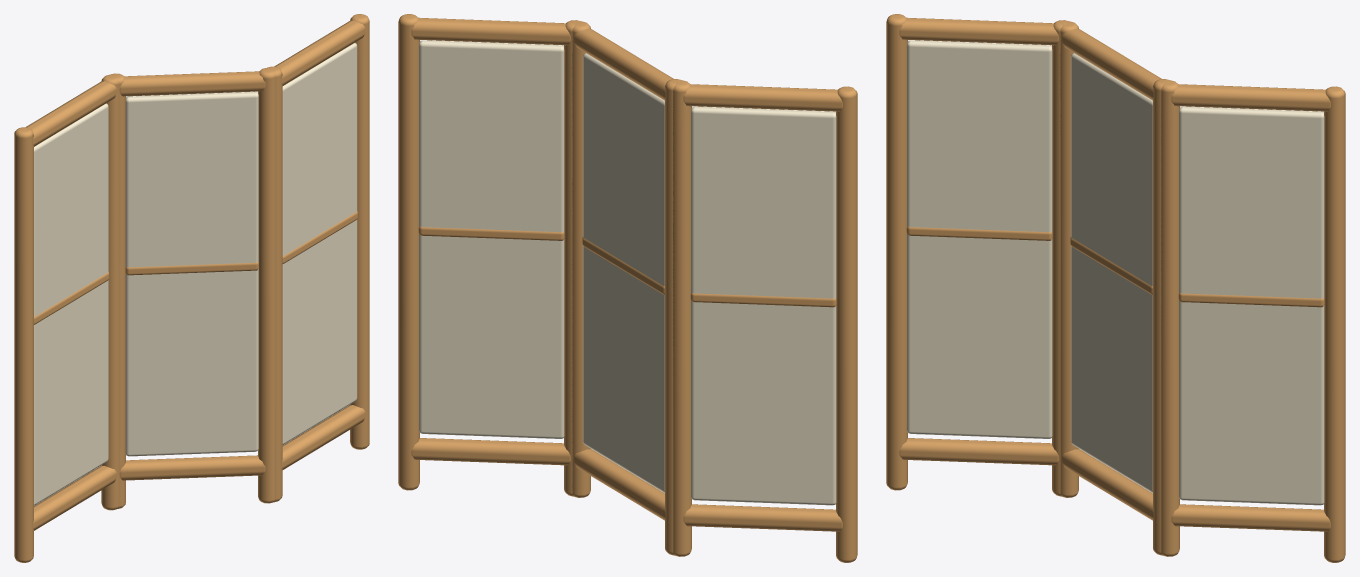
Rendered from folding_screen.glb.
The picture shows the model from 3 angles, left to right: view 1: azimuth 30°, elevation 25°; view 2: azimuth 150°, elevation 25°; view 3: azimuth 330°, elevation 25°; orthographic projection. The views are drawn at different scales.
Parts seen in each view (by area): view 1: folding_screen_mesh; view 2: folding_screen_mesh; view 3: folding_screen_mesh.
Part boxes in pixels (x1,y1,x2,y2): folding_screen_mesh: (14,14,369,562); folding_screen_mesh: (398,14,857,562); folding_screen_mesh: (886,14,1345,562).
Size of the model in its own units: 1.12 by 1.2 by 0.2098.
